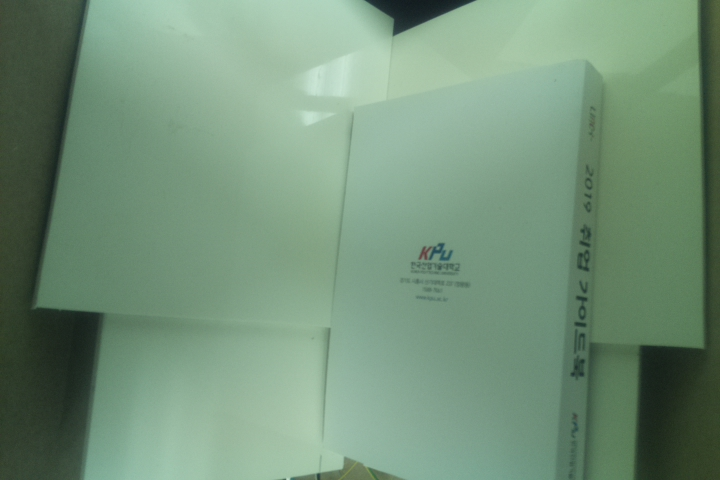book: (322, 55, 614, 480)
